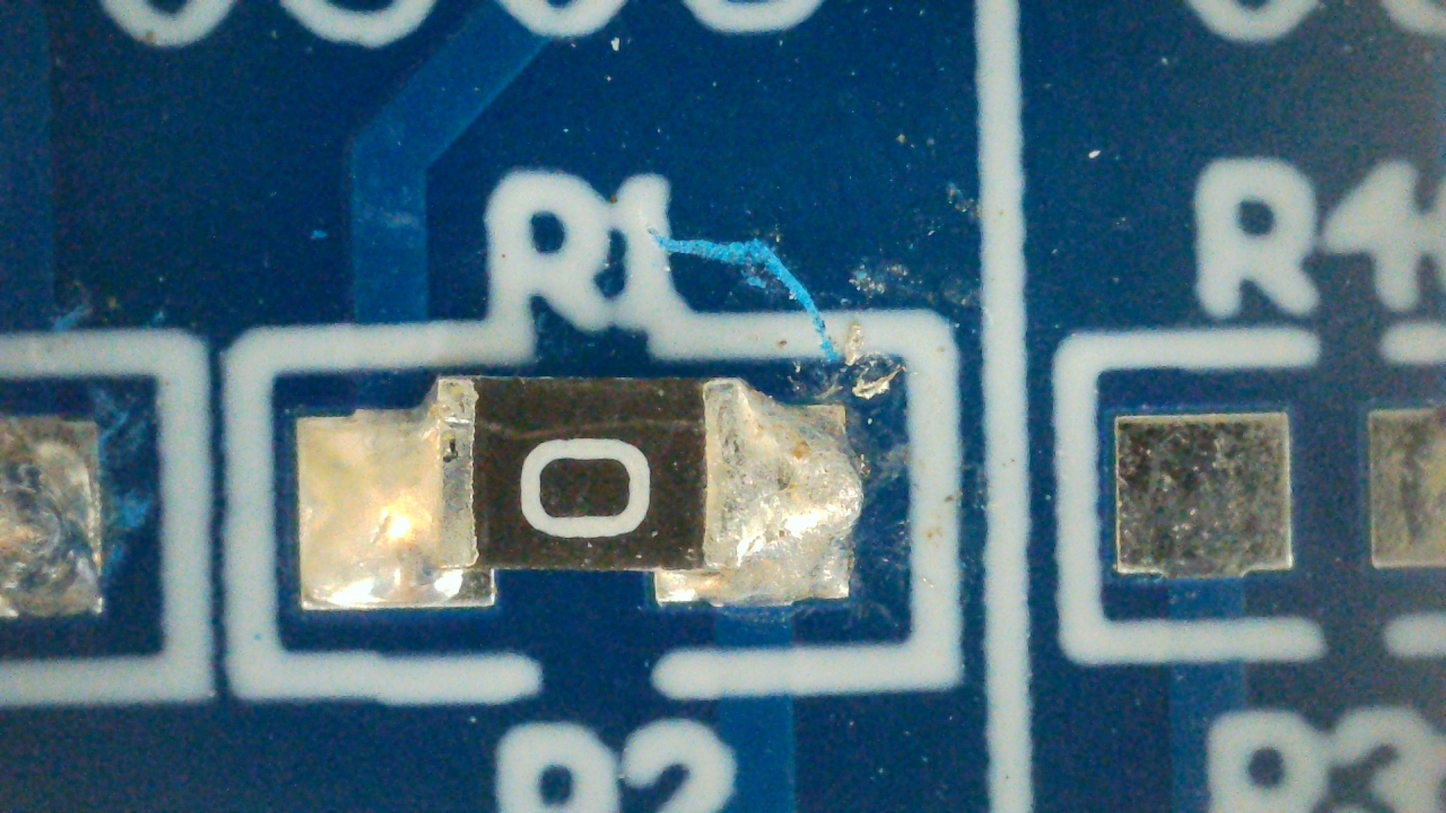NG: (298, 377, 866, 611)
